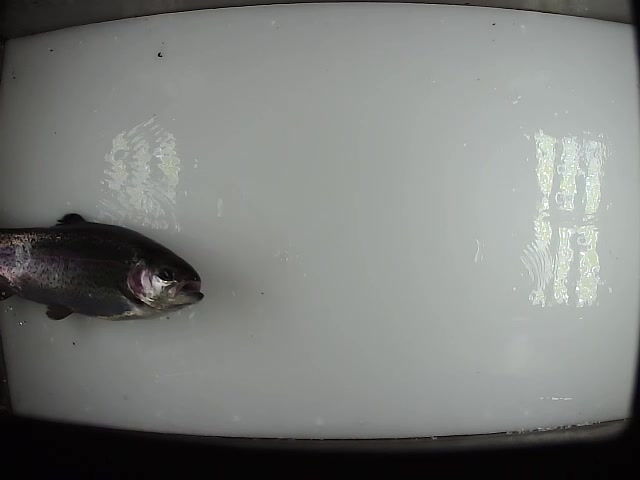fish: (1, 211, 207, 324)
